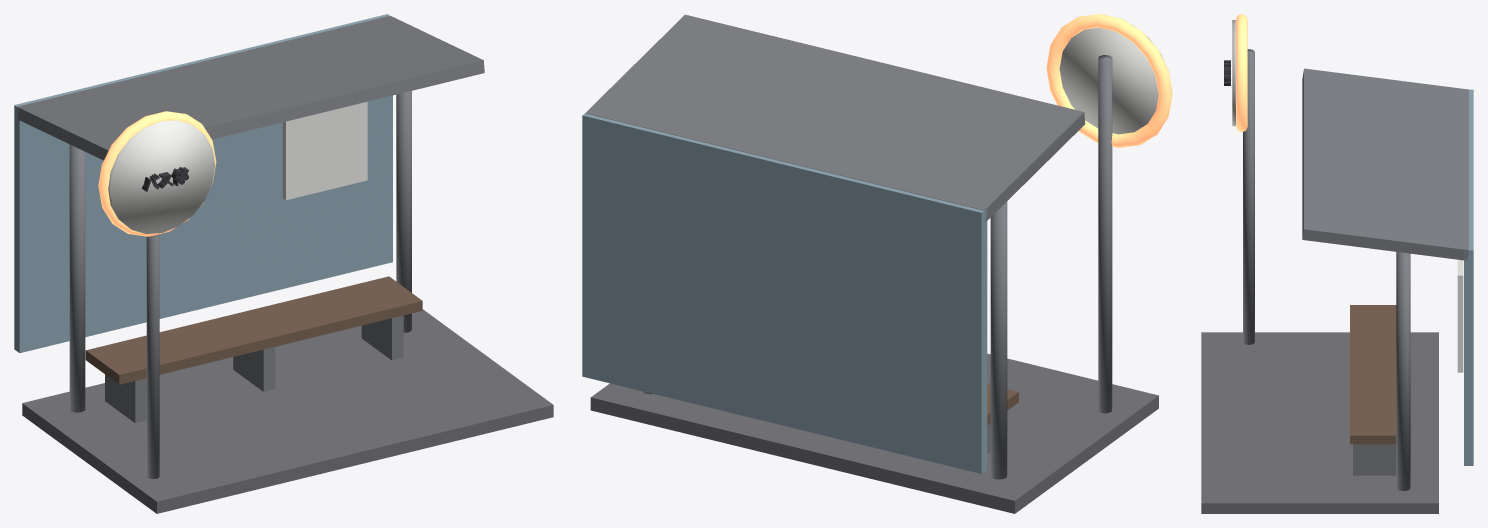
Rendered from prop_bus_tei.glb.
3 views of the same model, side by side, from view 1: azimuth 30°, elevation 25°; view 2: azimuth 150°, elevation 25°; view 3: azimuth 270°, elevation 25° (orthographic). The views are drawn at different scales.
Visible parts, largest first — view 1: bus_tei; view 2: bus_tei; view 3: bus_tei.
Boxes of the visible parts, box(x1,y1,x2,y2) form: bus_tei: box(14, 14, 553, 513); bus_tei: box(582, 14, 1172, 513); bus_tei: box(1201, 14, 1473, 513).
Bounding box in the file's own units: 3.7 × 3.09 × 2.29.
